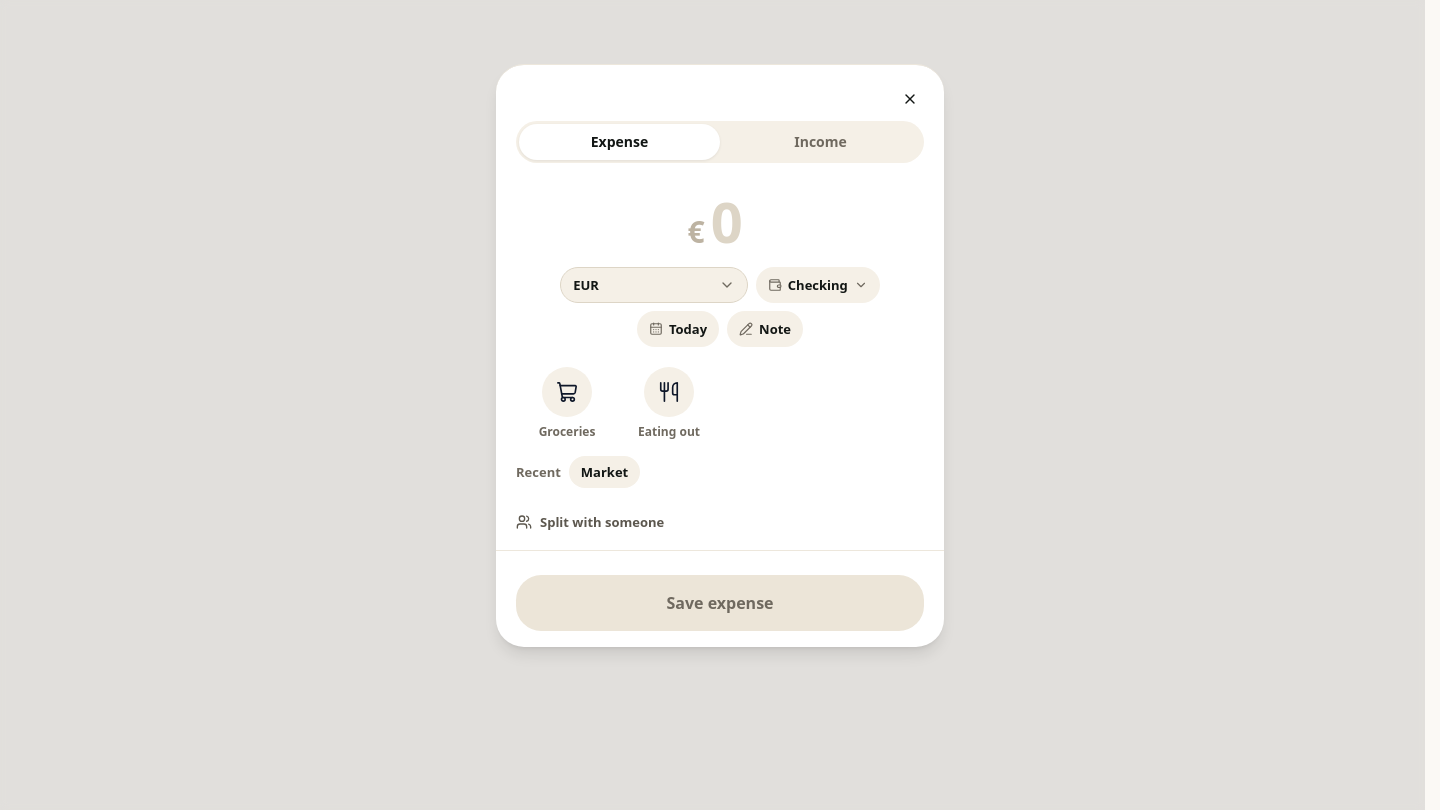
Test: QuickAddSheet › switches to a compatible wallet with explicit feedback and leaves the amount unchanged
Type "20" into the field named "Amount". click: (732, 221)
box: [711, 183, 752, 259]
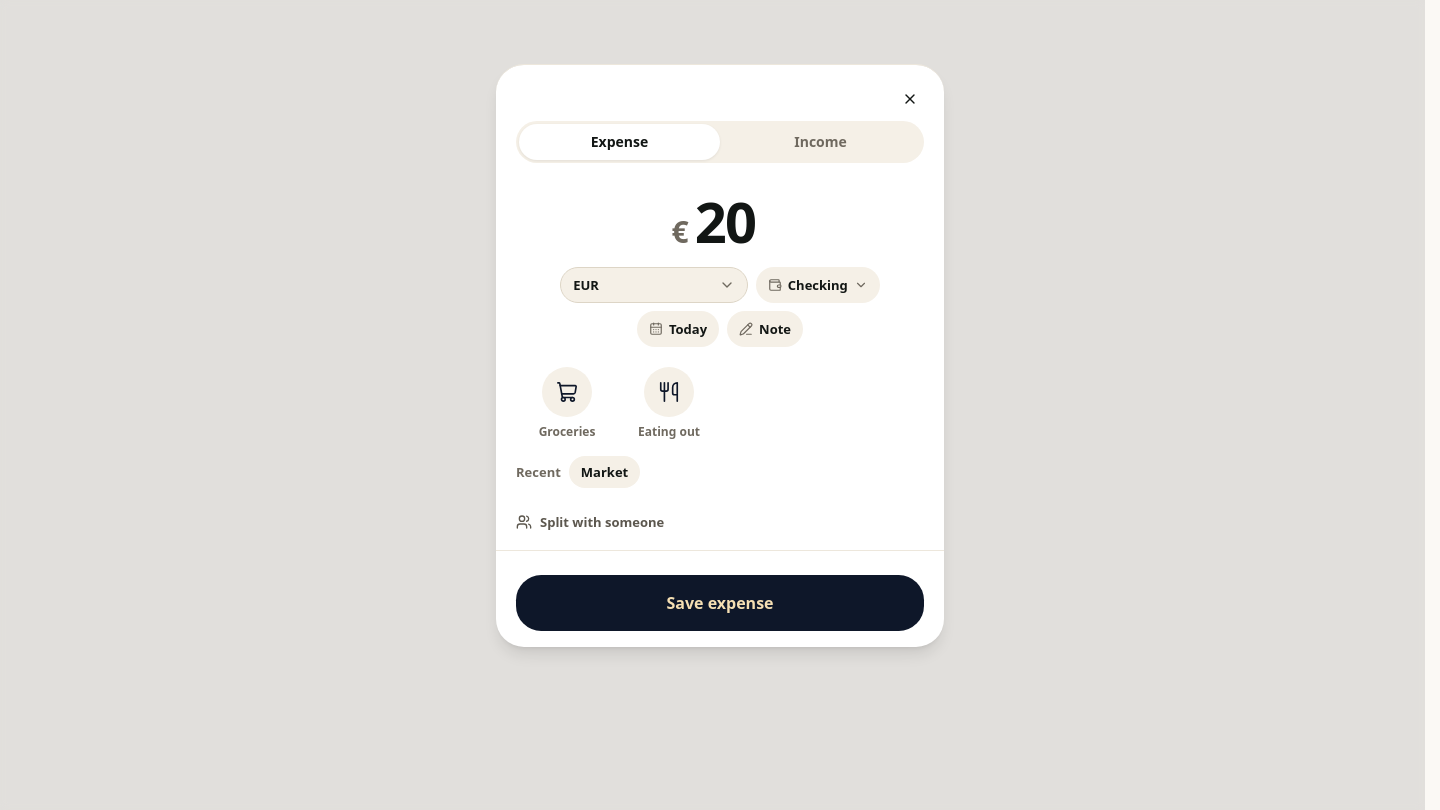
Click the dropdown named "Currency". click: (654, 285)
box: [560, 267, 748, 303]
(page scrolled)
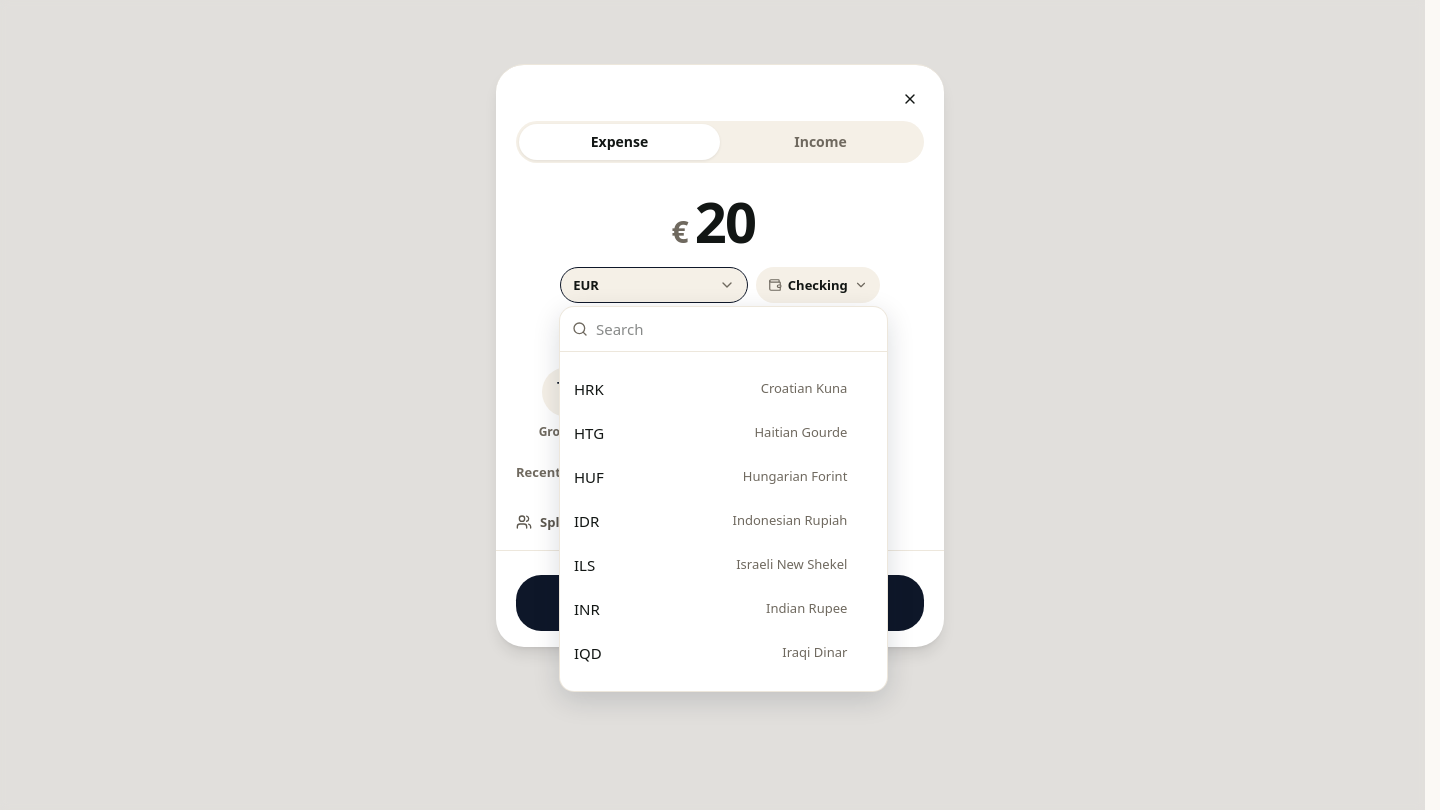
Click the option "IDR Indonesian Rupiah". click: (790, 520)
box: [574, 511, 847, 531]
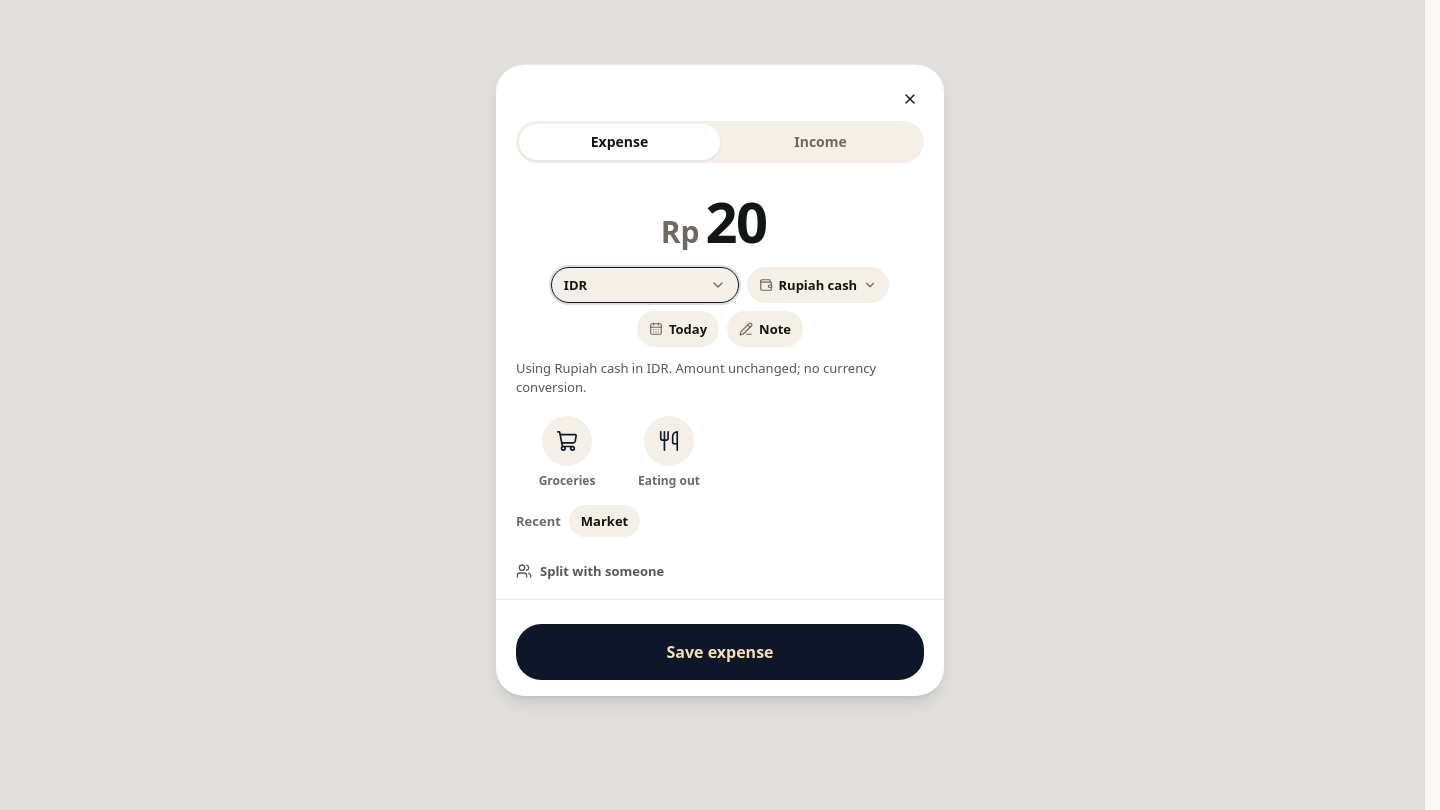
expect the dropdown named "Wallet" reads "Rupiah cash": met, box [746, 267, 889, 303]
expect the message reads "Using Rupiah cash in IDR. Amount unchanged; no currency conversion.": met, box [516, 359, 924, 396]
